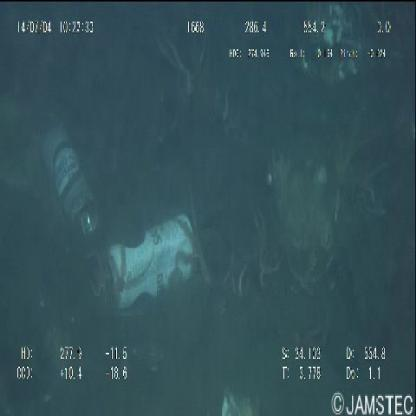Rác: (108, 211, 196, 313)
